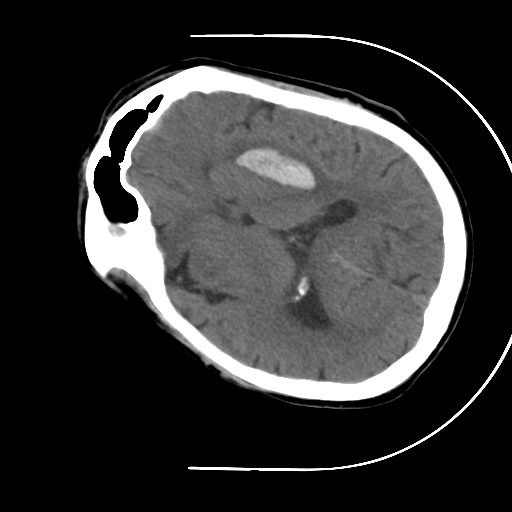a: (208, 122, 341, 207)
